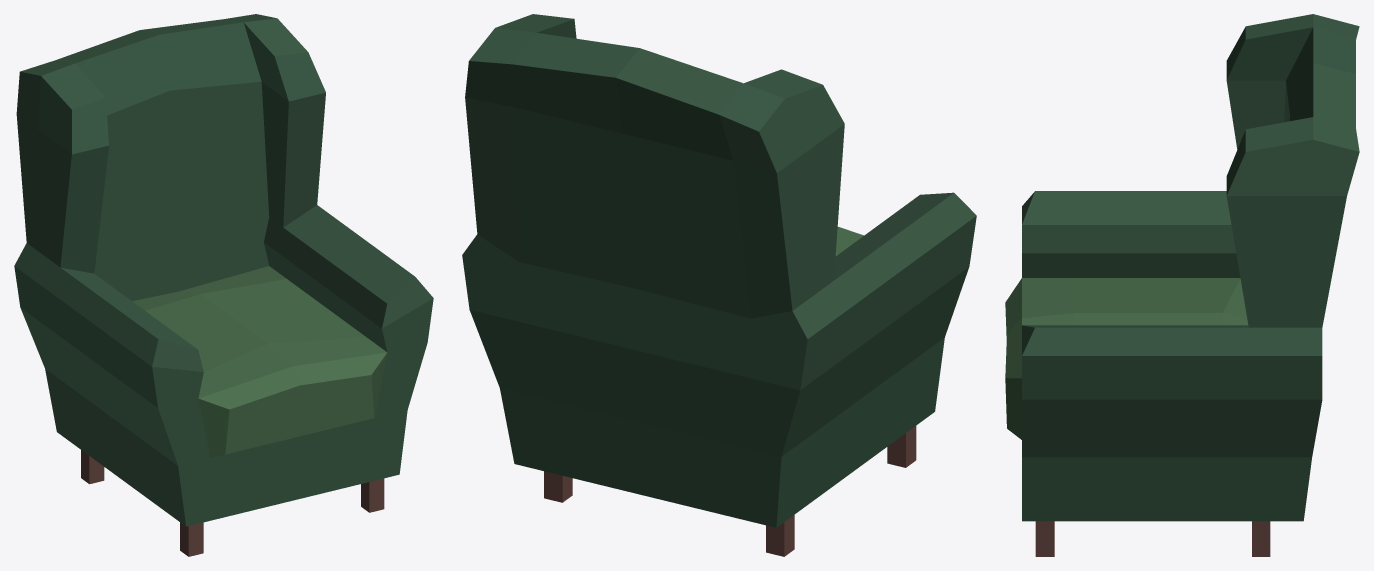
The model's file is poltrona.fbx.
The picture shows the model from 3 angles, left to right: view 1: azimuth 30°, elevation 25°; view 2: azimuth 150°, elevation 25°; view 3: azimuth 270°, elevation 25°; orthographic projection. The views are drawn at different scales.
Visible parts, largest first — view 1: Poltrona; view 2: Poltrona; view 3: Poltrona.
Part boxes in pixels (x1=…): Poltrona: x1=14, y1=14, x2=433, y2=556; Poltrona: x1=462, y1=14, x2=976, y2=556; Poltrona: x1=1005, y1=14, x2=1359, y2=556.
Size of the model in its own units: 80 by 110 by 80.
